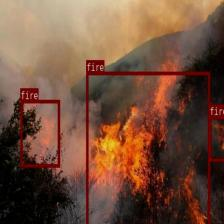fire: (86, 71, 210, 224), (20, 100, 59, 166), (208, 115, 224, 160)
